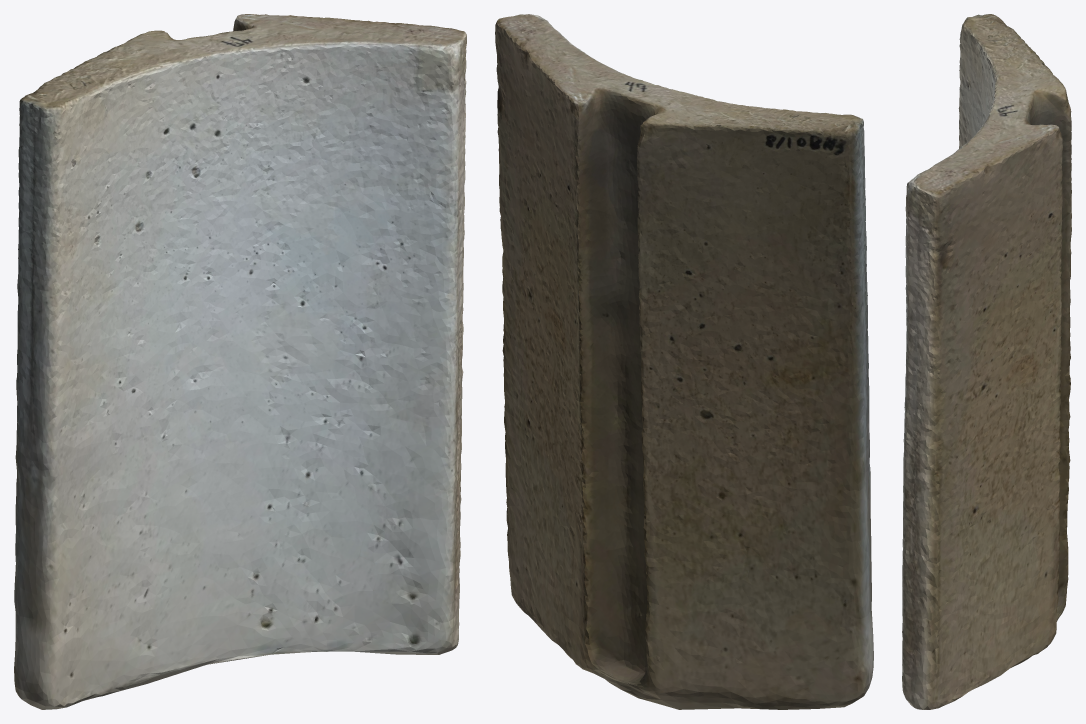
Rendered from Pixel 47.glb.
3 views of the same model, side by side, from view 1: azimuth 30°, elevation 25°; view 2: azimuth 150°, elevation 25°; view 3: azimuth 270°, elevation 25° (orthographic). The views are drawn at different scales.
Size of the model in its own units: 0.1853 by 0.2661 by 0.075.
Materials: 1 (1 with a texture image).
